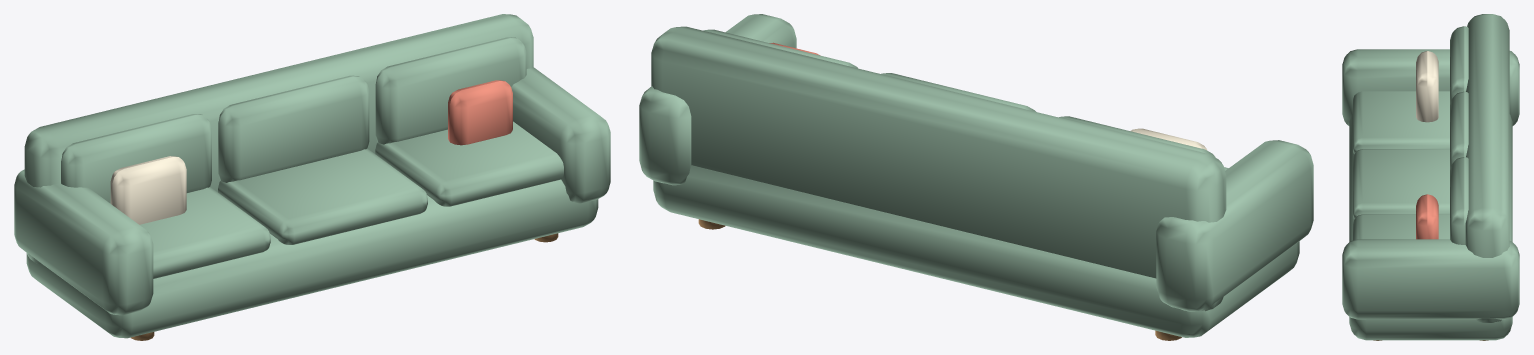
File: rounded-sofa-sample.glb
3 renders of one model, left to right at view 1: azimuth 30°, elevation 25°; view 2: azimuth 150°, elevation 25°; view 3: azimuth 270°, elevation 25°, orthographic. The views are drawn at different scales.
Visible parts, largest first — view 1: rounded-sofa-sage upholstery, rounded-sofa-cream accents, rounded-sofa-coral shoes; view 2: rounded-sofa-sage upholstery; view 3: rounded-sofa-sage upholstery, rounded-sofa-cream accents, rounded-sofa-coral shoes.
Boxes of the visible parts, box(x1,y1,x2,y2) form: rounded-sofa-sage upholstery: box(14, 14, 610, 338); rounded-sofa-cream accents: box(110, 156, 186, 224); rounded-sofa-coral shoes: box(448, 80, 512, 145); rounded-sofa-sage upholstery: box(639, 14, 1313, 337); rounded-sofa-sage upholstery: box(1342, 14, 1519, 340); rounded-sofa-cream accents: box(1416, 51, 1438, 122); rounded-sofa-coral shoes: box(1416, 194, 1438, 239).
Size of the model in its own units: 7.01 by 2.19 by 2.5.
